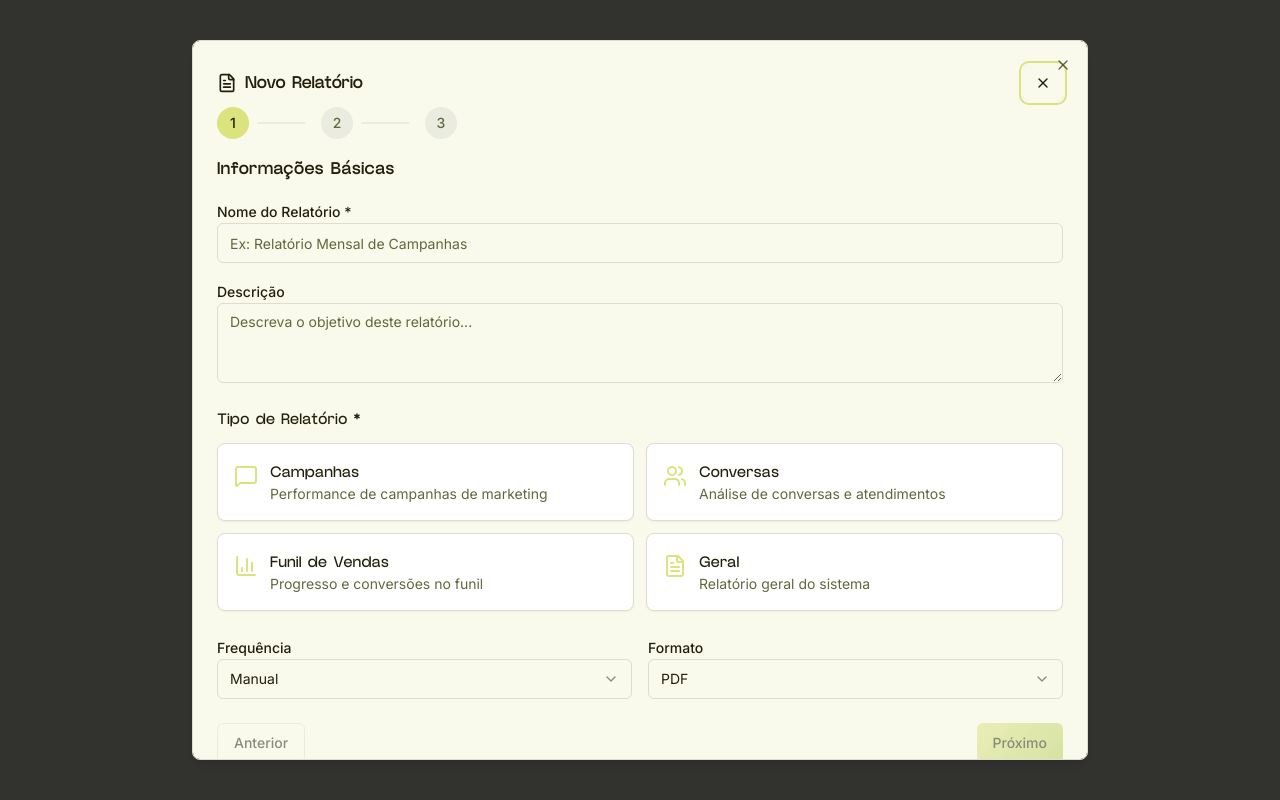
Scenario: NewReportModal — o que vai no relatório › a etapa 2 lista exatamente o conteúdo real, sem caixinha
The image size is (1280, 800).
In the field labelled "Nome do Relatório *": (640,243) [217, 223, 1063, 263], type "Semanal"
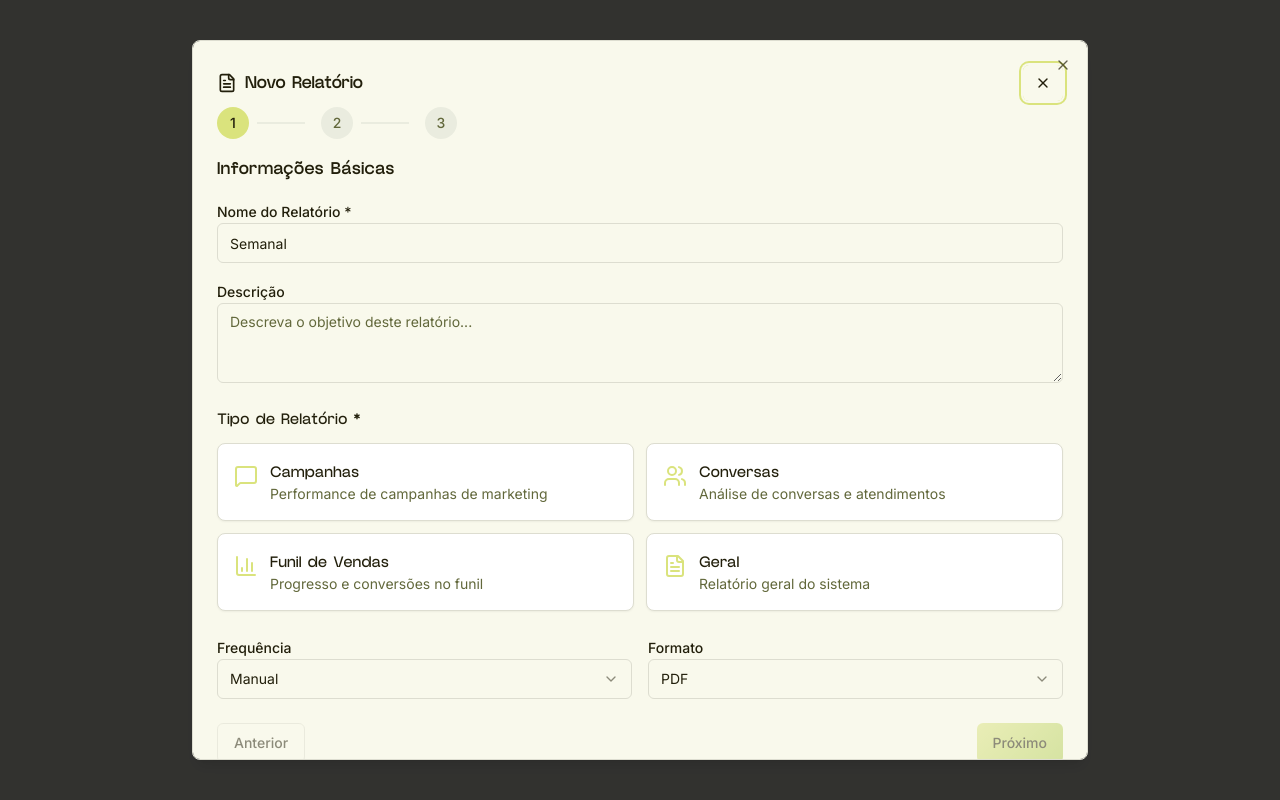
Click the heading "Conversas": (739,472) [699, 461, 779, 483]
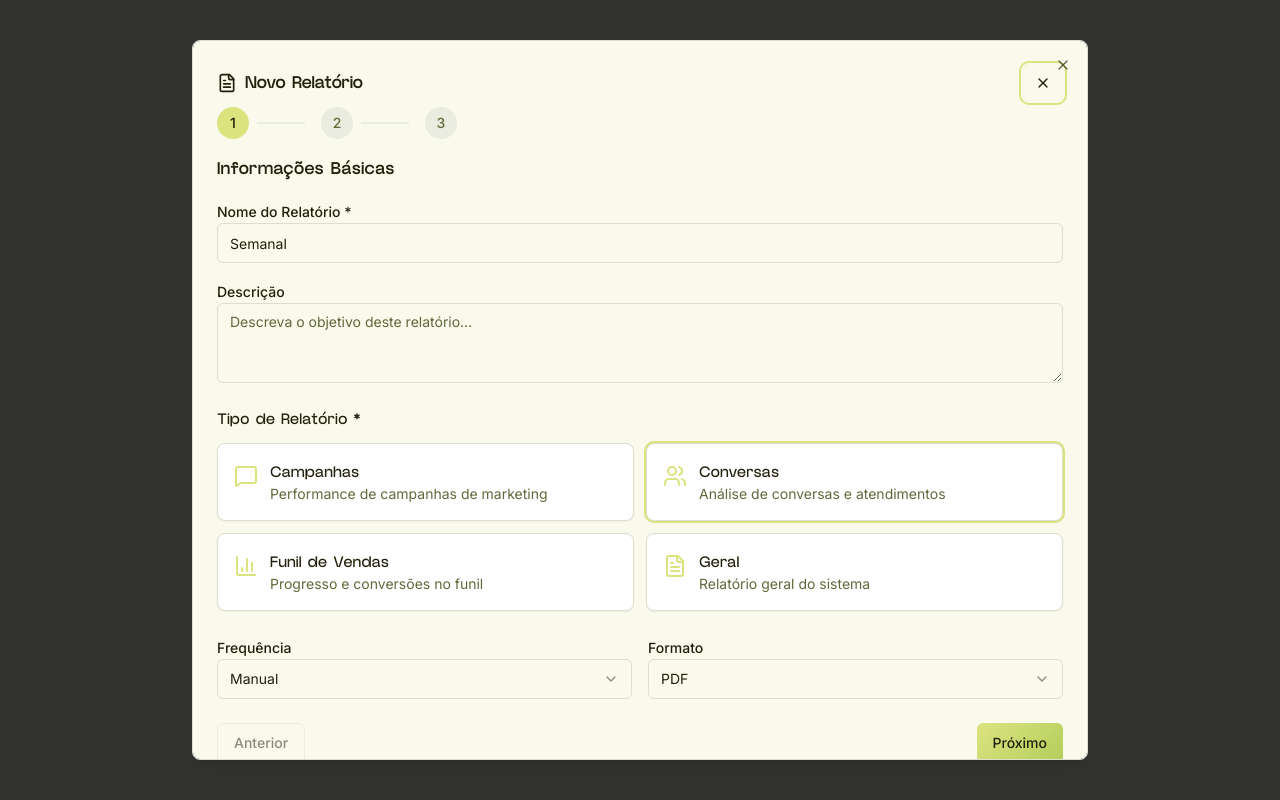
Click the button "Próximo": (1020,743) [976, 723, 1063, 763]
(page scrolled)
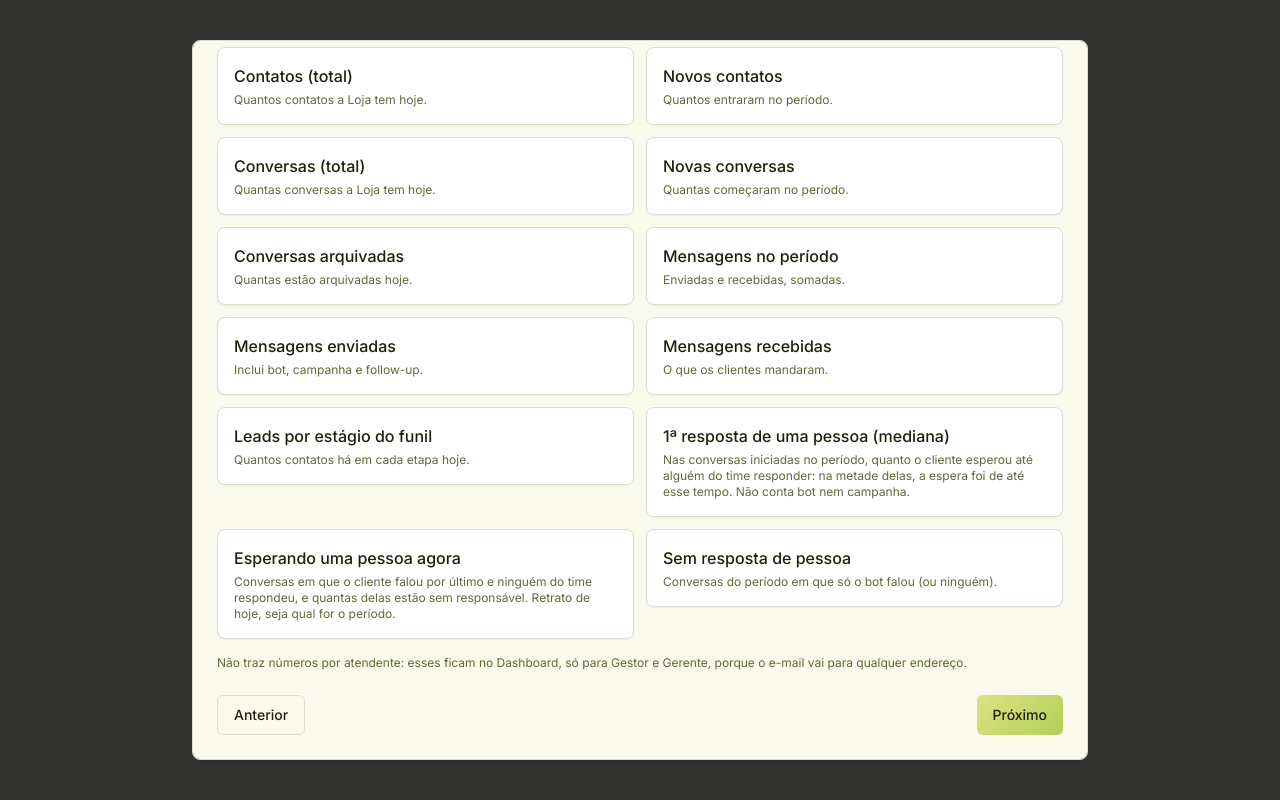
Now the element with test id "report-contents-step" is shown, box [217, 40, 1063, 671]
Now the list item with test id "report-content-waiting_human_now" shows "Esperando uma pessoa agora", box [234, 548, 461, 568]
Now the list item with test id "report-content-no_human_reply" shows "Sem resposta de pessoa", box [663, 548, 851, 568]
